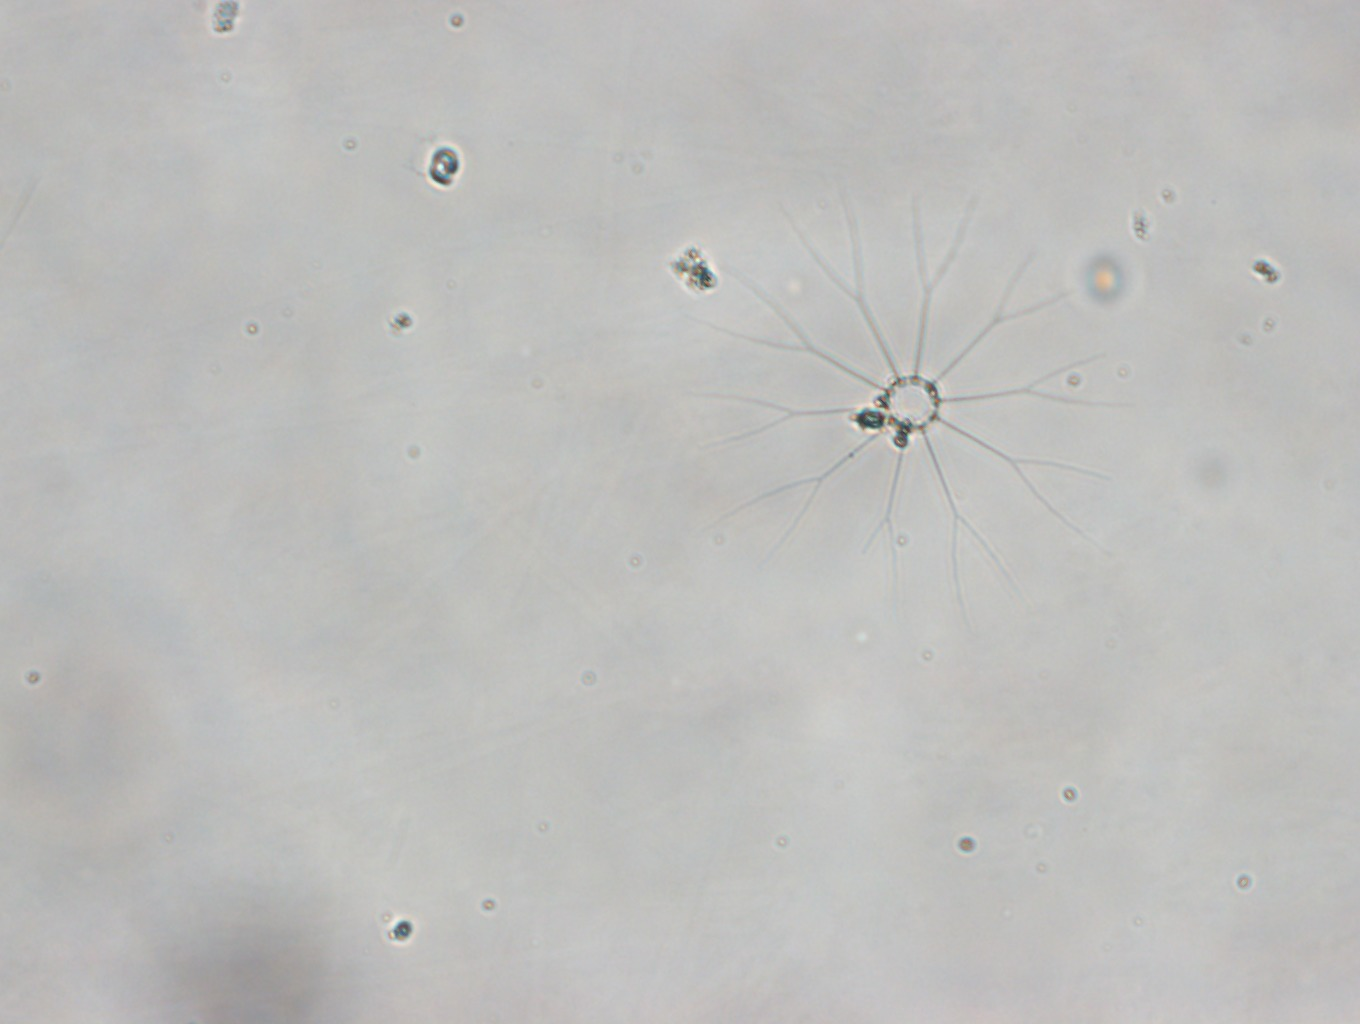bacteriastrum: (684, 190, 1132, 631)
